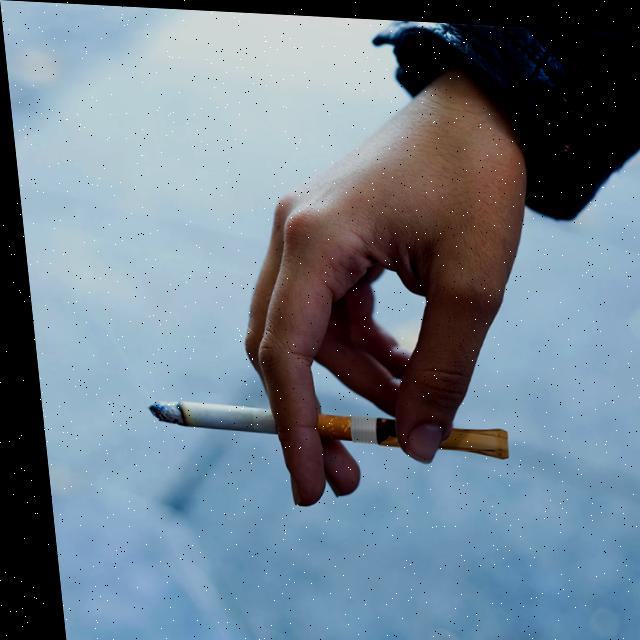cigarette: (138, 398, 345, 437)
